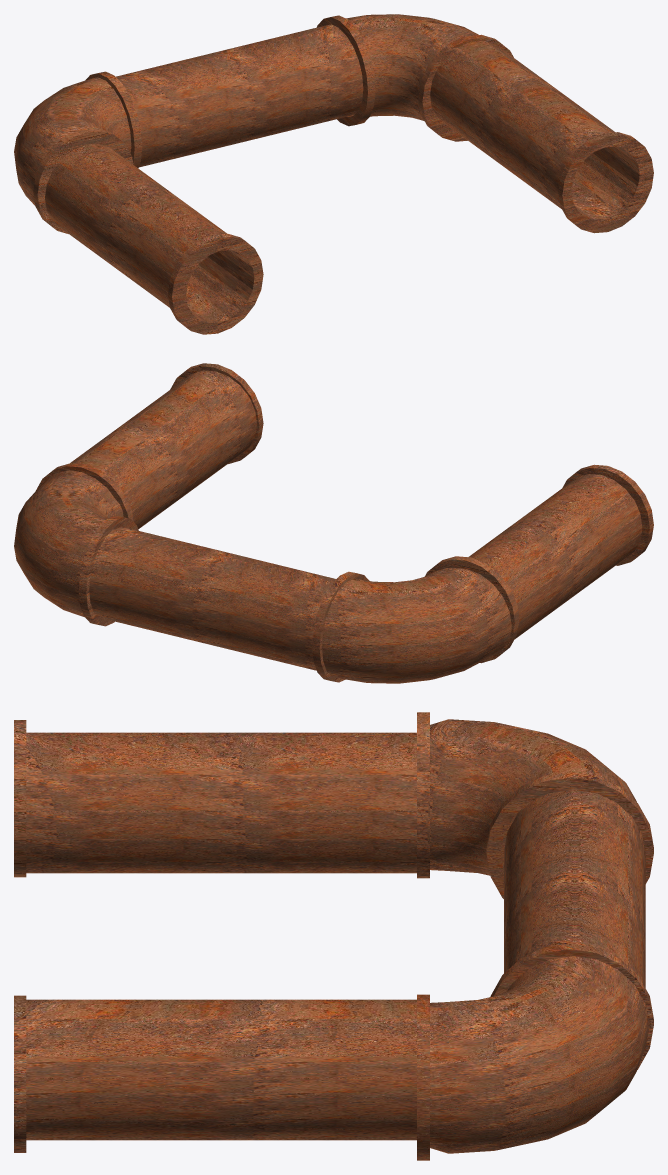
File: pipe 5 c.fbx
3 renders of one model, top to bottom at view 1: azimuth 30°, elevation 25°; view 2: azimuth 150°, elevation 25°; view 3: azimuth 270°, elevation 25°, orthographic. The views are drawn at different scales.
Parts seen in each view (by area): view 1: pTorus45; view 2: pTorus45; view 3: pTorus45.
Boxes of the visible parts, x1=… form: pTorus45: x1=14, y1=14, x2=653, y2=334; pTorus45: x1=14, y1=363, x2=653, y2=683; pTorus45: x1=14, y1=712, x2=653, y2=1160.
Bounding box in the file's own units: 9212 × 1865 × 7075.
